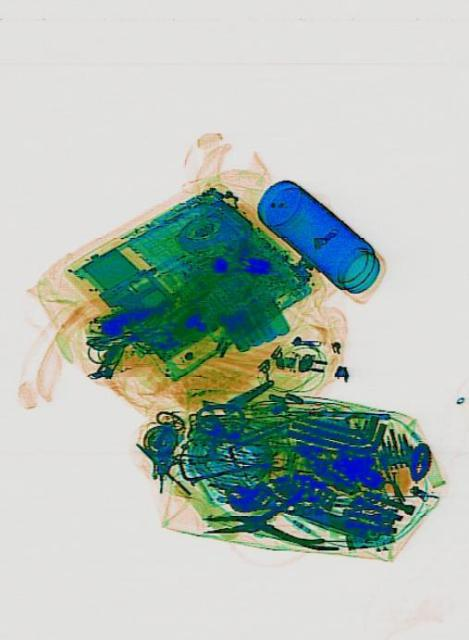Pliers: (198, 478, 337, 560)
